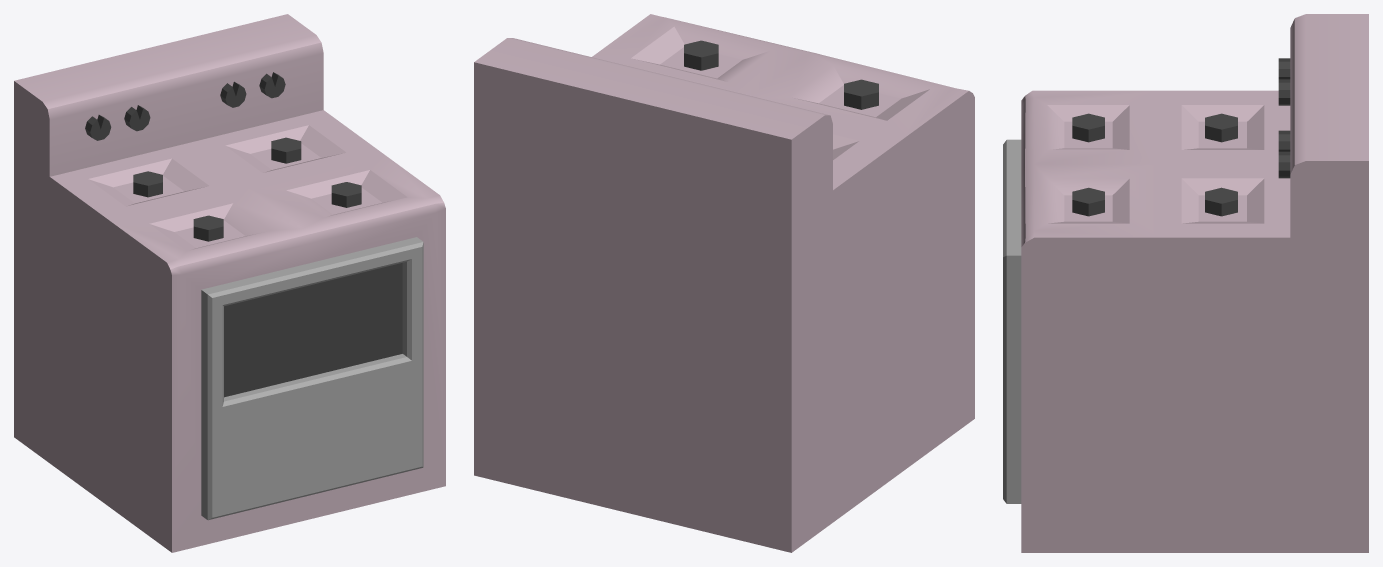
Rendered from Oven.fbx.
3 views of the same model, side by side, from view 1: azimuth 30°, elevation 25°; view 2: azimuth 150°, elevation 25°; view 3: azimuth 270°, elevation 25° (orthographic). The views are drawn at different scales.
Visible parts, largest first — view 1: Oven; view 2: Oven; view 3: Oven.
Part boxes in pixels (x1,y1,x2,y2): Oven: (14,14,445,552); Oven: (474,14,974,552); Oven: (1003,14,1368,552).
Bounding box in the file's own units: 1 × 1.24 × 1.05.
